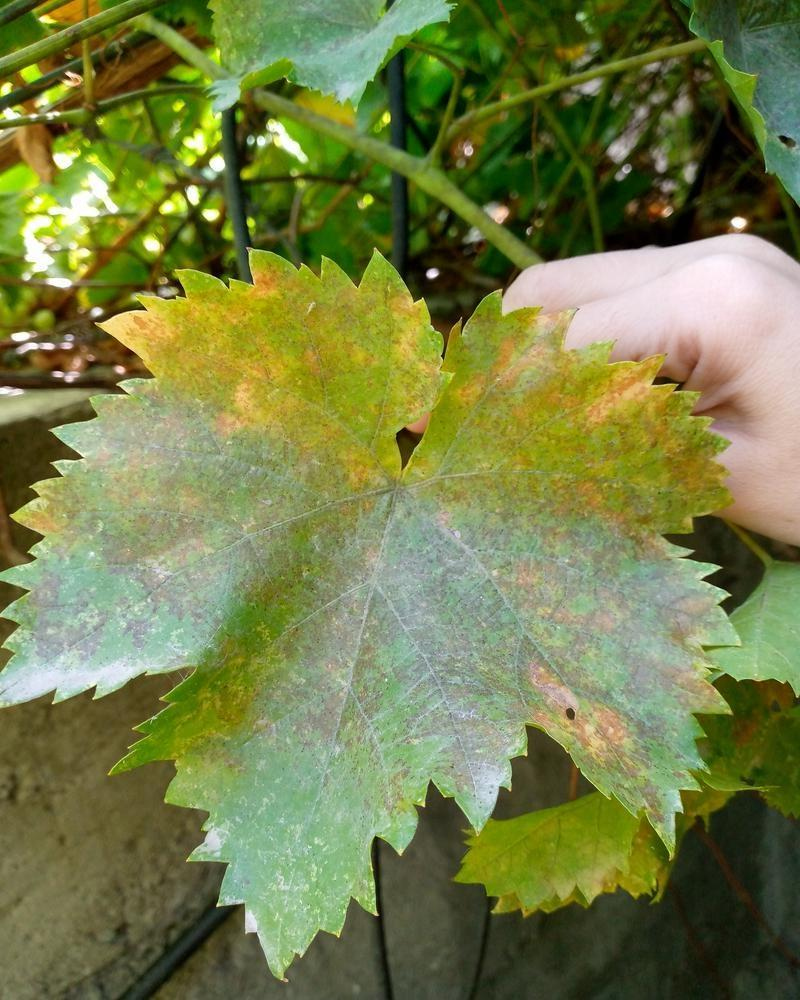Powdery-Mildew: (448, 312, 721, 564), (138, 269, 335, 454), (103, 480, 233, 633), (522, 667, 650, 786), (496, 552, 617, 658), (29, 600, 153, 670), (456, 704, 529, 810), (370, 306, 433, 369), (107, 415, 170, 478), (333, 432, 396, 495), (421, 480, 484, 543), (351, 541, 414, 604), (648, 586, 711, 649), (650, 652, 713, 714)
